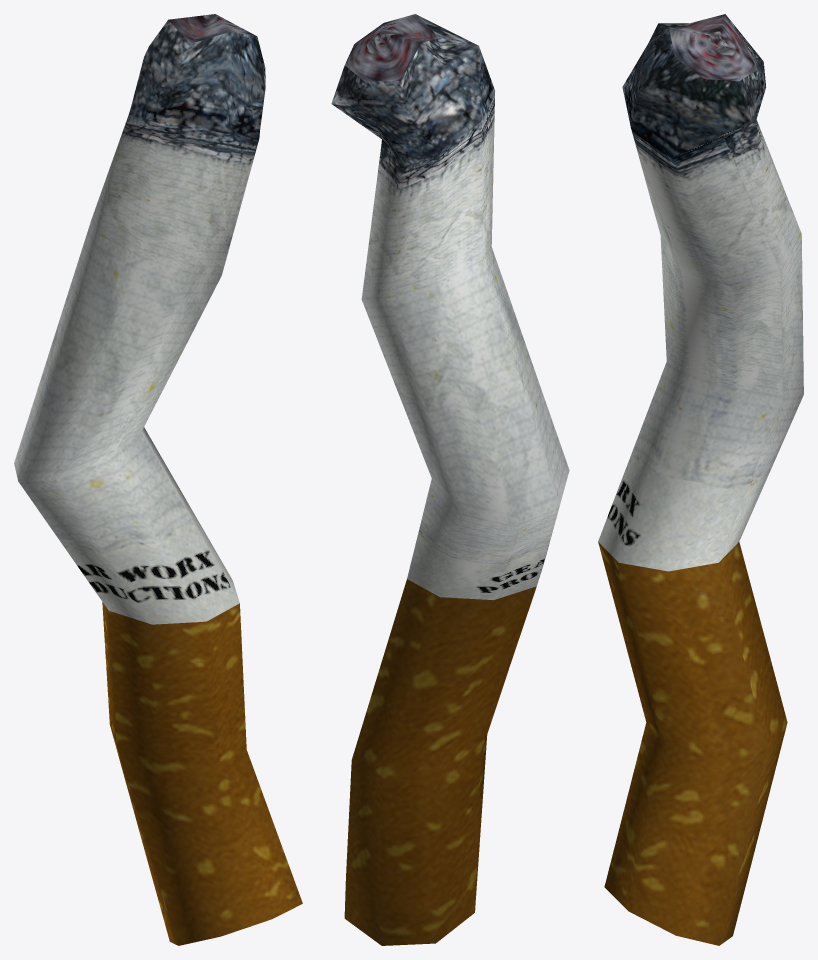
The model's file is cig_bent_02.fbx.
The picture shows the model from 3 angles, left to right: view 1: azimuth 30°, elevation 25°; view 2: azimuth 150°, elevation 25°; view 3: azimuth 270°, elevation 25°; orthographic projection.
Visible parts, largest first — view 1: Cig; view 2: Cig; view 3: Cig.
Part boxes in pixels (box(x1,y1,x2,y2)): Cig: box(14, 14, 302, 945); Cig: box(331, 14, 569, 945); Cig: box(598, 14, 803, 945).
Bounding box in the file's own units: 0.0241 × 0.086 × 0.0177.
